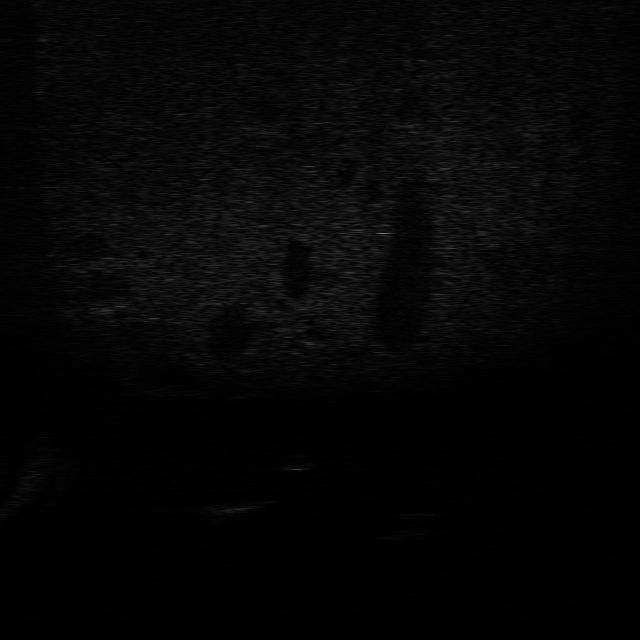ball: (270, 445, 319, 478)
square cage: (195, 490, 269, 522)
tyre: (380, 507, 449, 547)
